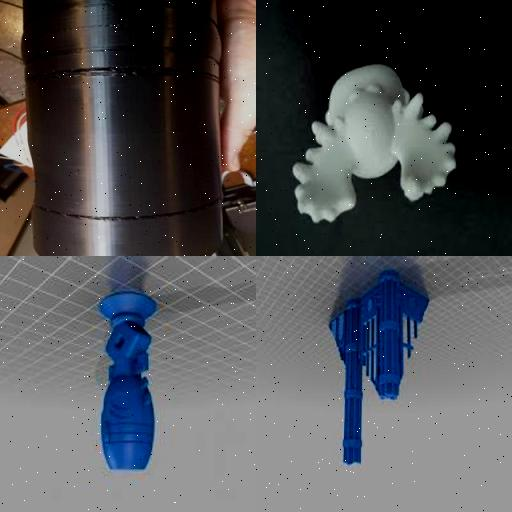cracks: (36, 185, 220, 229), (23, 58, 219, 92)
